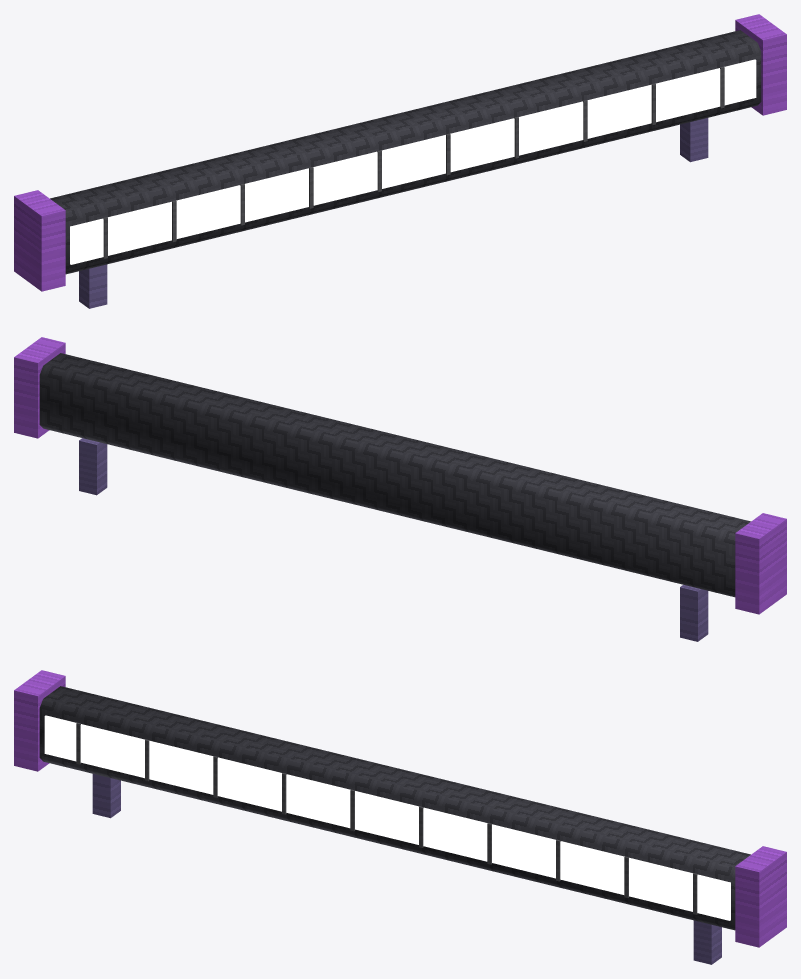
The model's file is farois_aux_n5.glb.
The picture shows the model from 3 angles, top to bottom: view 1: azimuth 30°, elevation 25°; view 2: azimuth 150°, elevation 25°; view 3: azimuth 330°, elevation 25°; orthographic projection.
Visible parts, largest first — view 1: farois_aux_n5; view 2: farois_aux_n5; view 3: farois_aux_n5.
Boxes of the visible parts, x1,y1,x2,y2 form: farois_aux_n5: (14,14,786,308); farois_aux_n5: (14,337,786,641); farois_aux_n5: (14,670,786,964).
Size of the model in its own units: 1.24 by 0.19 by 0.0805.
Materials: 4 (4 with a texture image).
